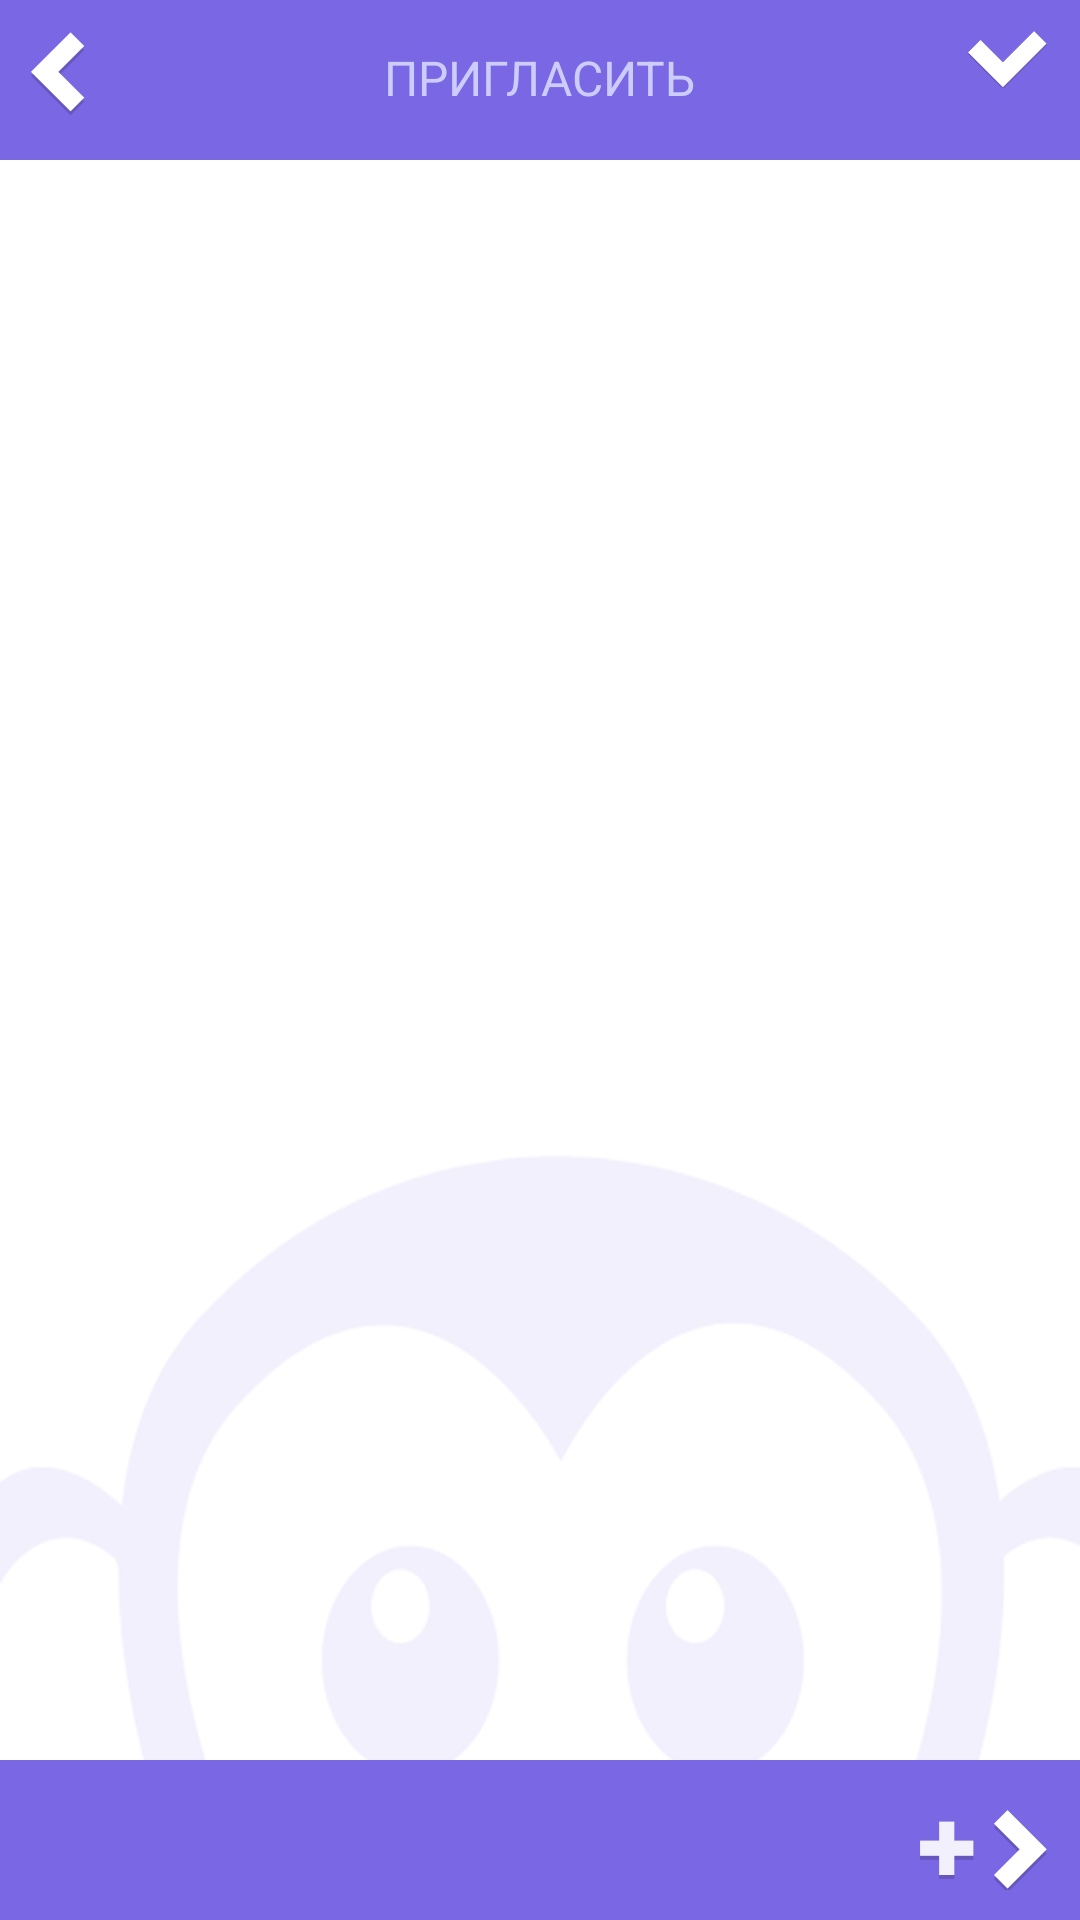

Icons on this 1080x1920 Android screen, each with its box as (x1, y1, x2, y2):
btnback: (31, 32, 84, 115)
invite form btninvite: (920, 1810, 1047, 1890)
invite form check: (968, 31, 1047, 88)
